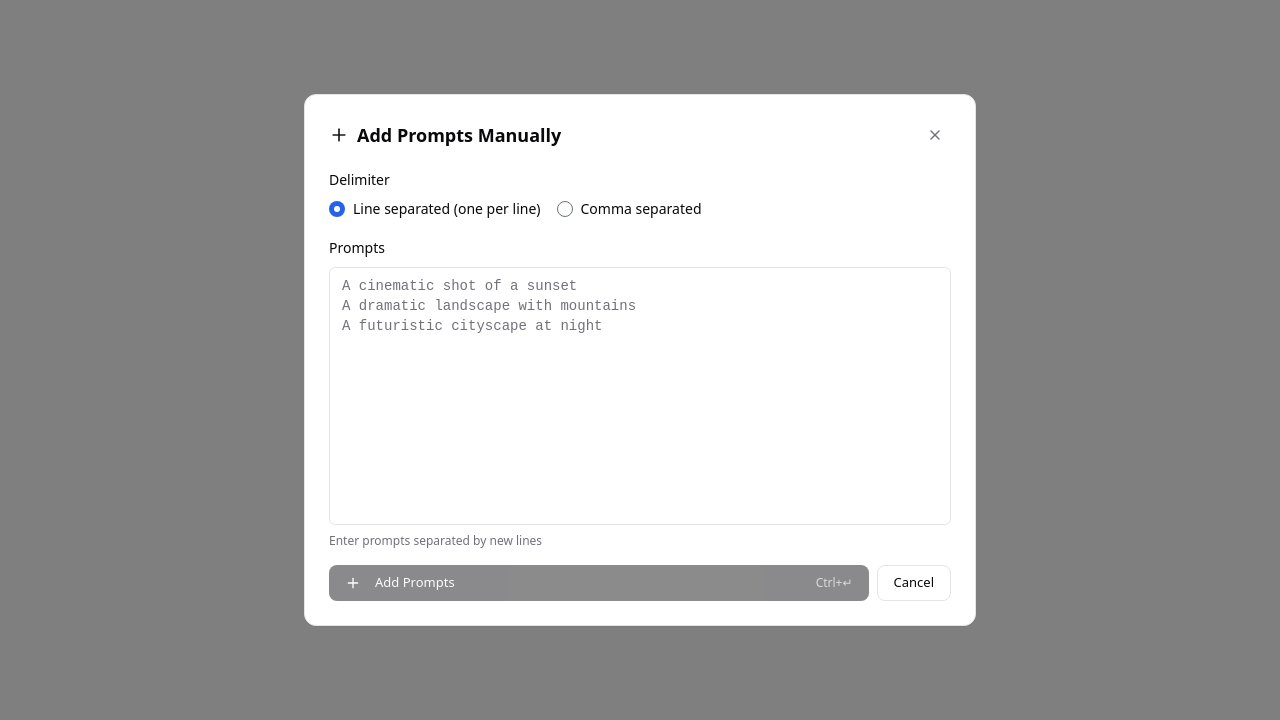
ManualAddDialog › should parse prompts by comma delimiter
The width and height of the screenshot is (1280, 720).
Click the radio button labelled "Comma separated" at (564, 209), box [556,201,572,217]
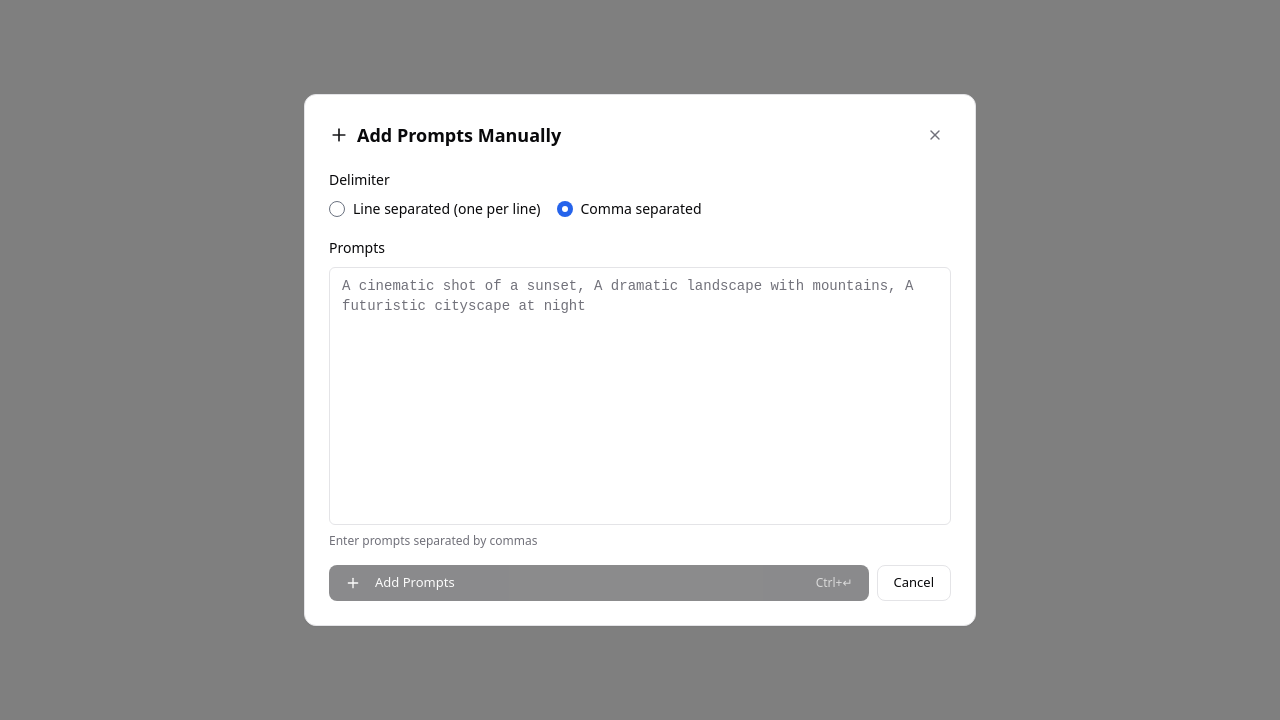
Replace the text in the text box labelled "Prompts" with "Prompt 1, Prompt 2, Prompt 3" at (640, 396), box [329,267,951,525]
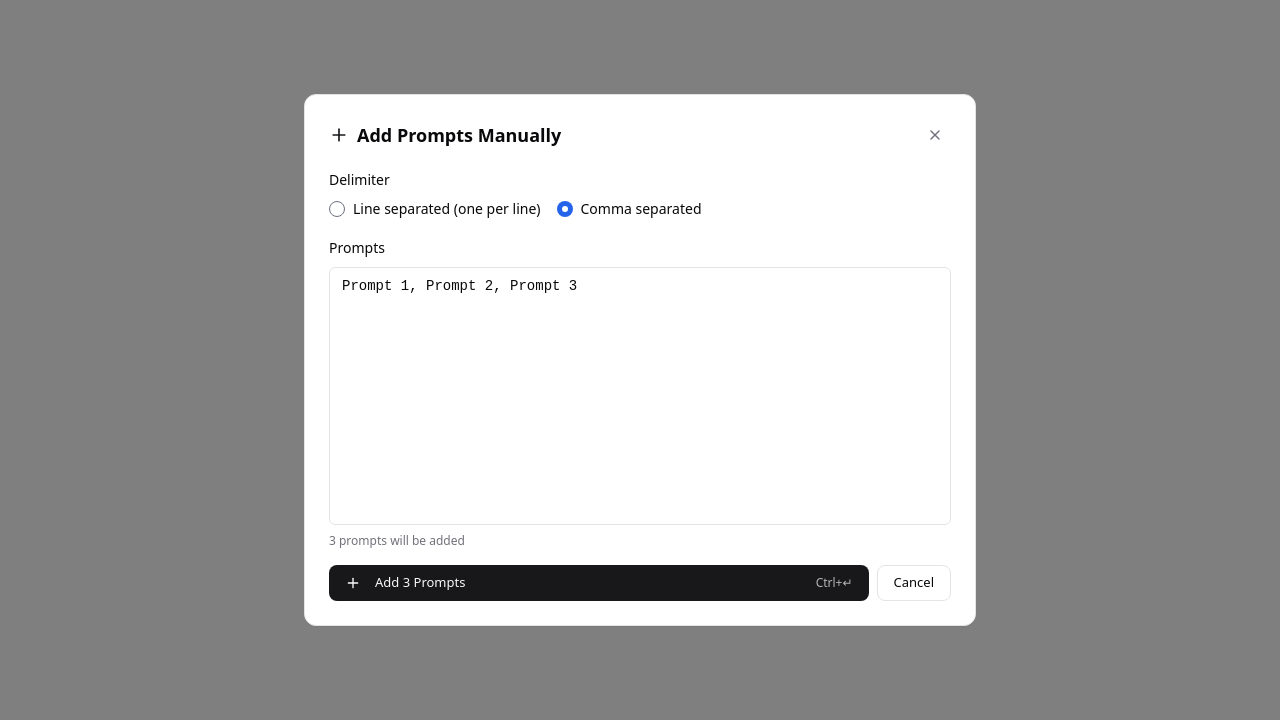
Result: the text "3 prompts will be added" is shown at [329,532,465,549]
